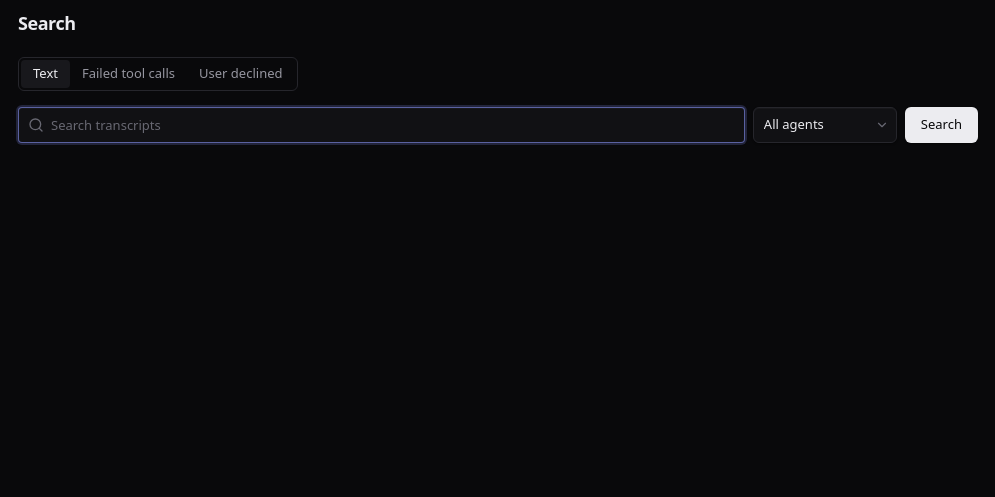
Scenario: lists user declines separately, links to commands, and loads remaining results
Click the tab "User declined" at (241, 74), box [187,60,295,88]
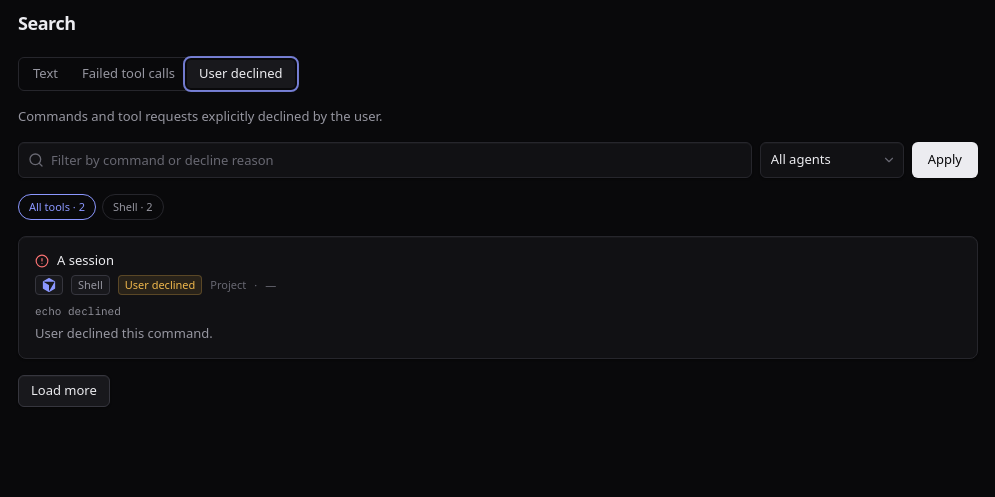
Now the text "echo declined" is shown, box [35,304,121,318]
Type "unapplied text" into the field named "Filter user-declined commands" at (385, 160), box [18,142,752,178]
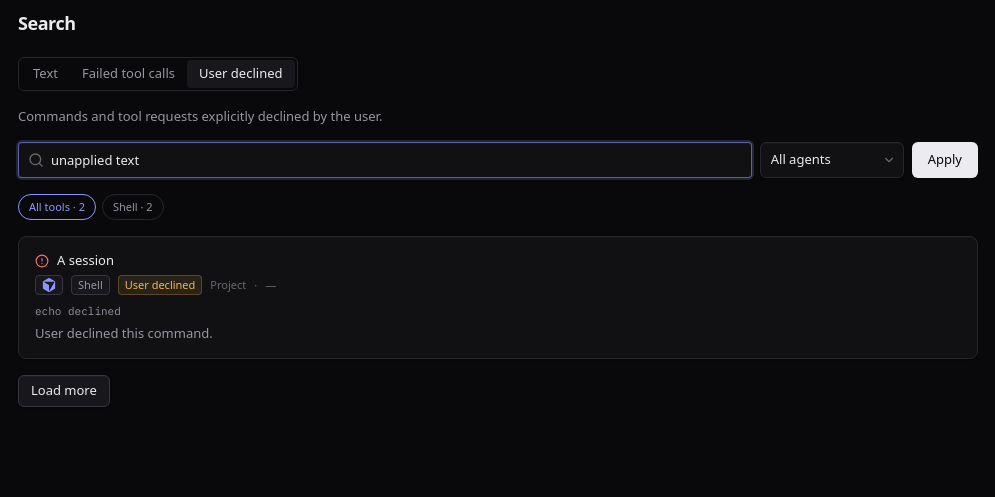
Click the button "Load more" at (64, 391), box [18,375,110,407]
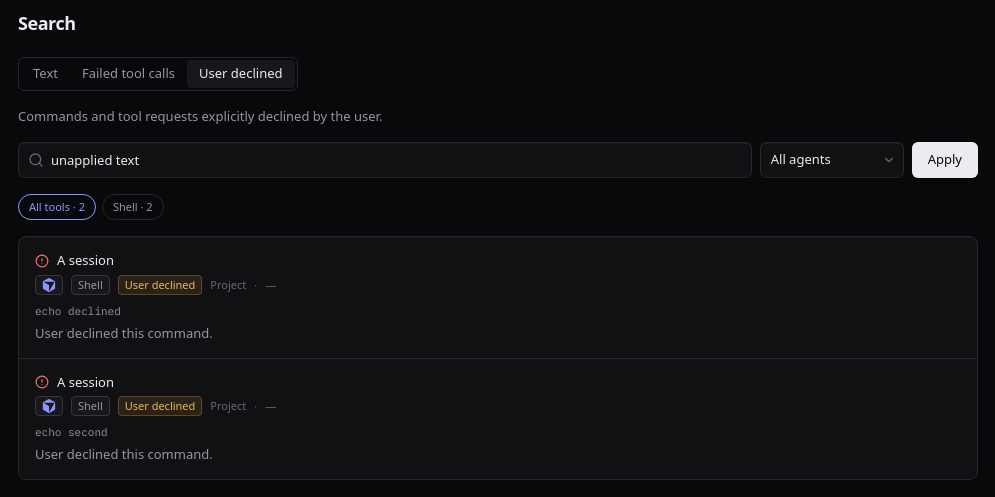
Now the text "echo second" is shown, box [35,425,108,439]
Click the tab "Failed tool calls" at (129, 74), box [70,60,187,88]
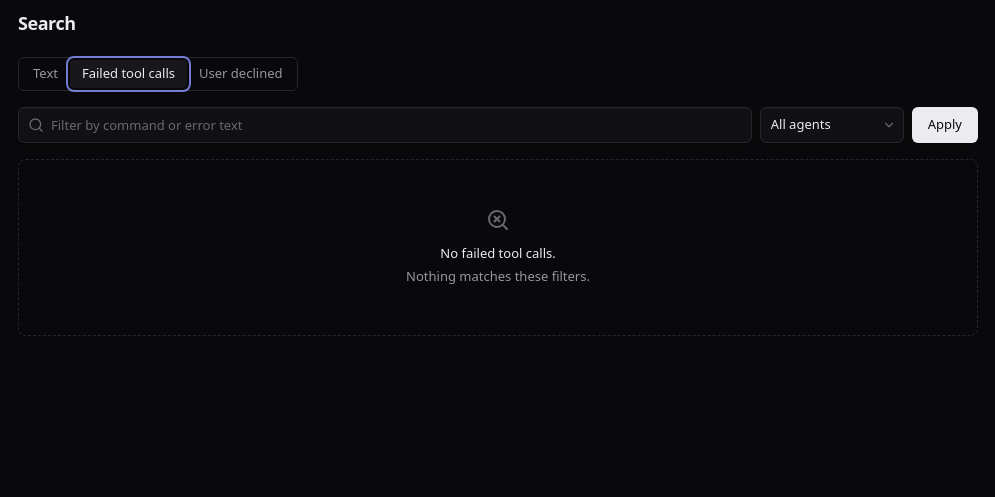
Now the text "No failed tool calls." is shown, box [440,244,556,263]
Now the link "echo declined" is gone
